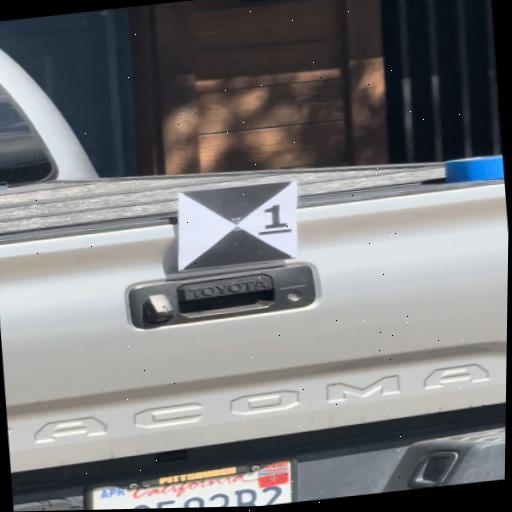target1: (178, 181, 296, 271)
